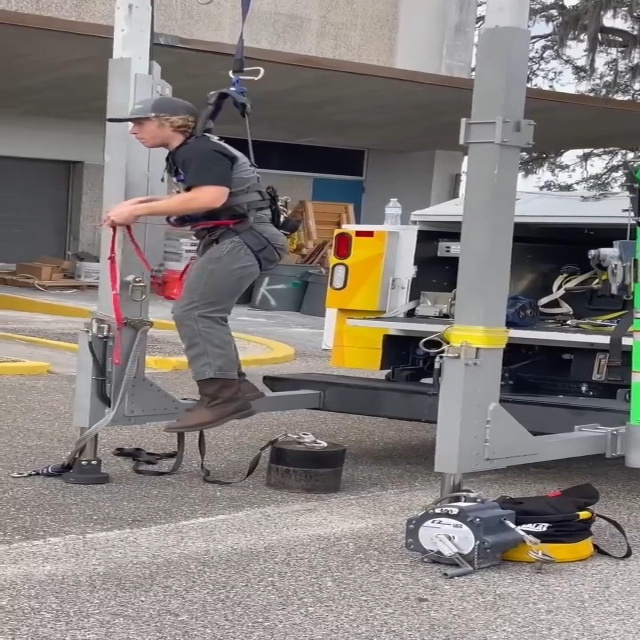Arnes_seguridad: (157, 79, 313, 275)
